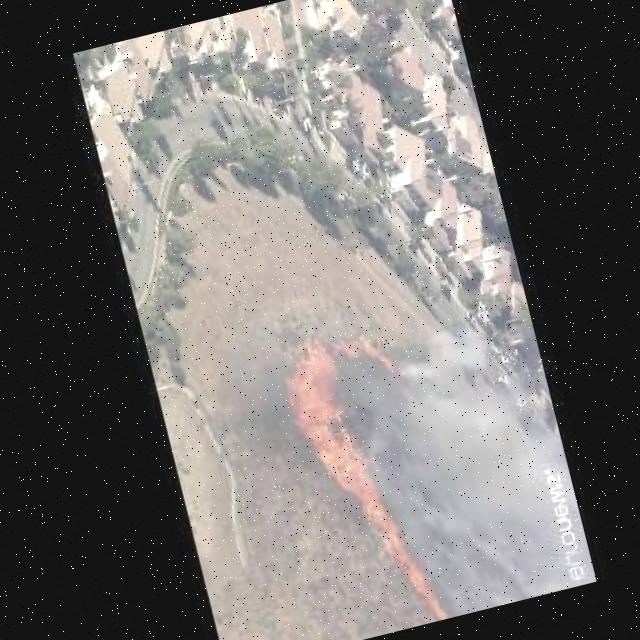fire: (275, 328, 385, 523), (373, 500, 449, 629), (330, 321, 398, 386)
